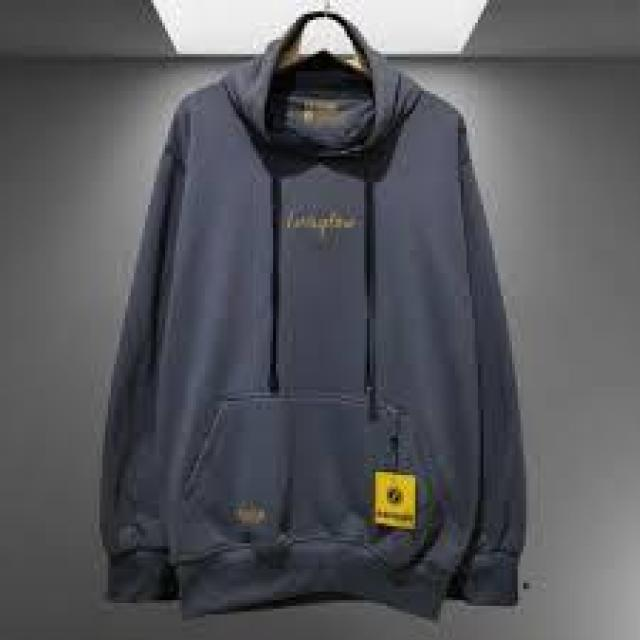sweater: (90, 28, 533, 623)
